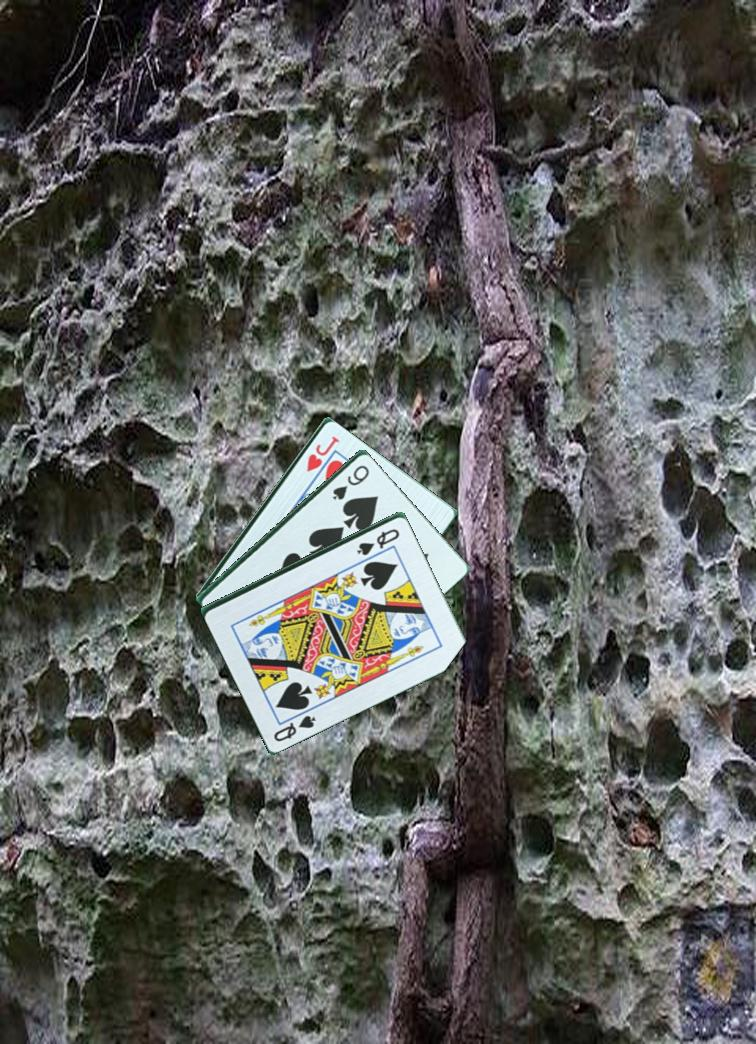9s: (329, 461, 372, 503)
jh: (303, 432, 341, 475)
qs: (270, 711, 319, 744), (354, 525, 402, 557)
